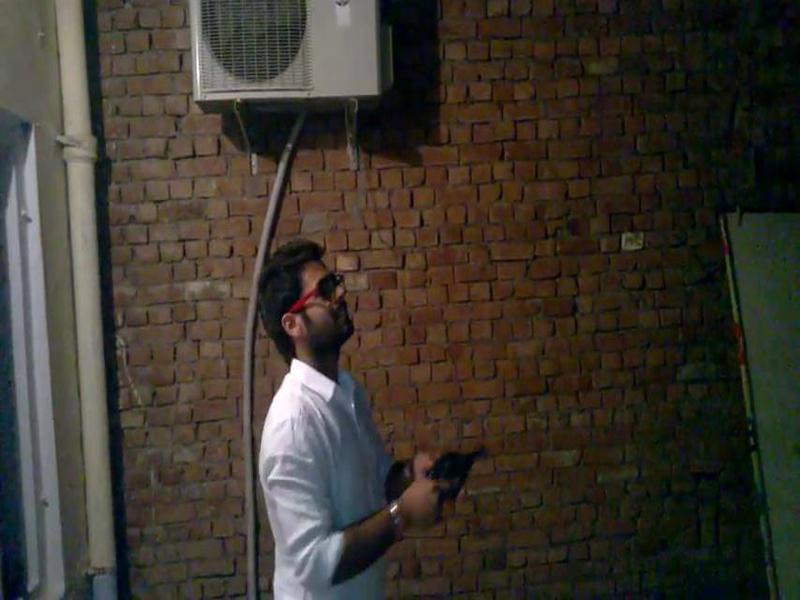Revolver: (410, 431, 489, 523)
